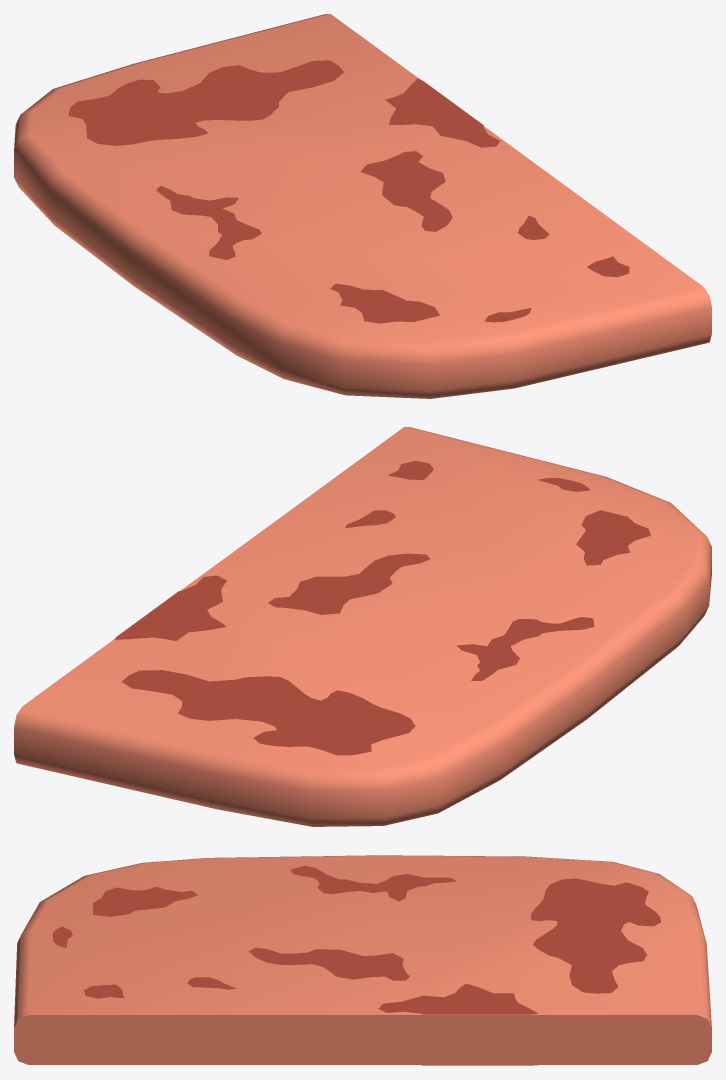
The model's file is Ham_half_Hotdog.002.fbx.
3 renders of one model, top to bottom at view 1: azimuth 30°, elevation 25°; view 2: azimuth 150°, elevation 25°; view 3: azimuth 270°, elevation 25°, orthographic. The views are drawn at different scales.
Visible parts, largest first — view 1: Ham_half_Hotdog.002; view 2: Ham_half_Hotdog.002; view 3: Ham_half_Hotdog.002.
Part boxes in pixels (<box>): Ham_half_Hotdog.002: <box>14,14,711,398</box>; Ham_half_Hotdog.002: <box>14,427,711,826</box>; Ham_half_Hotdog.002: <box>14,855,711,1065</box>.
Size of the model in its own units: 43.15 by 76.92 by 6.22.
